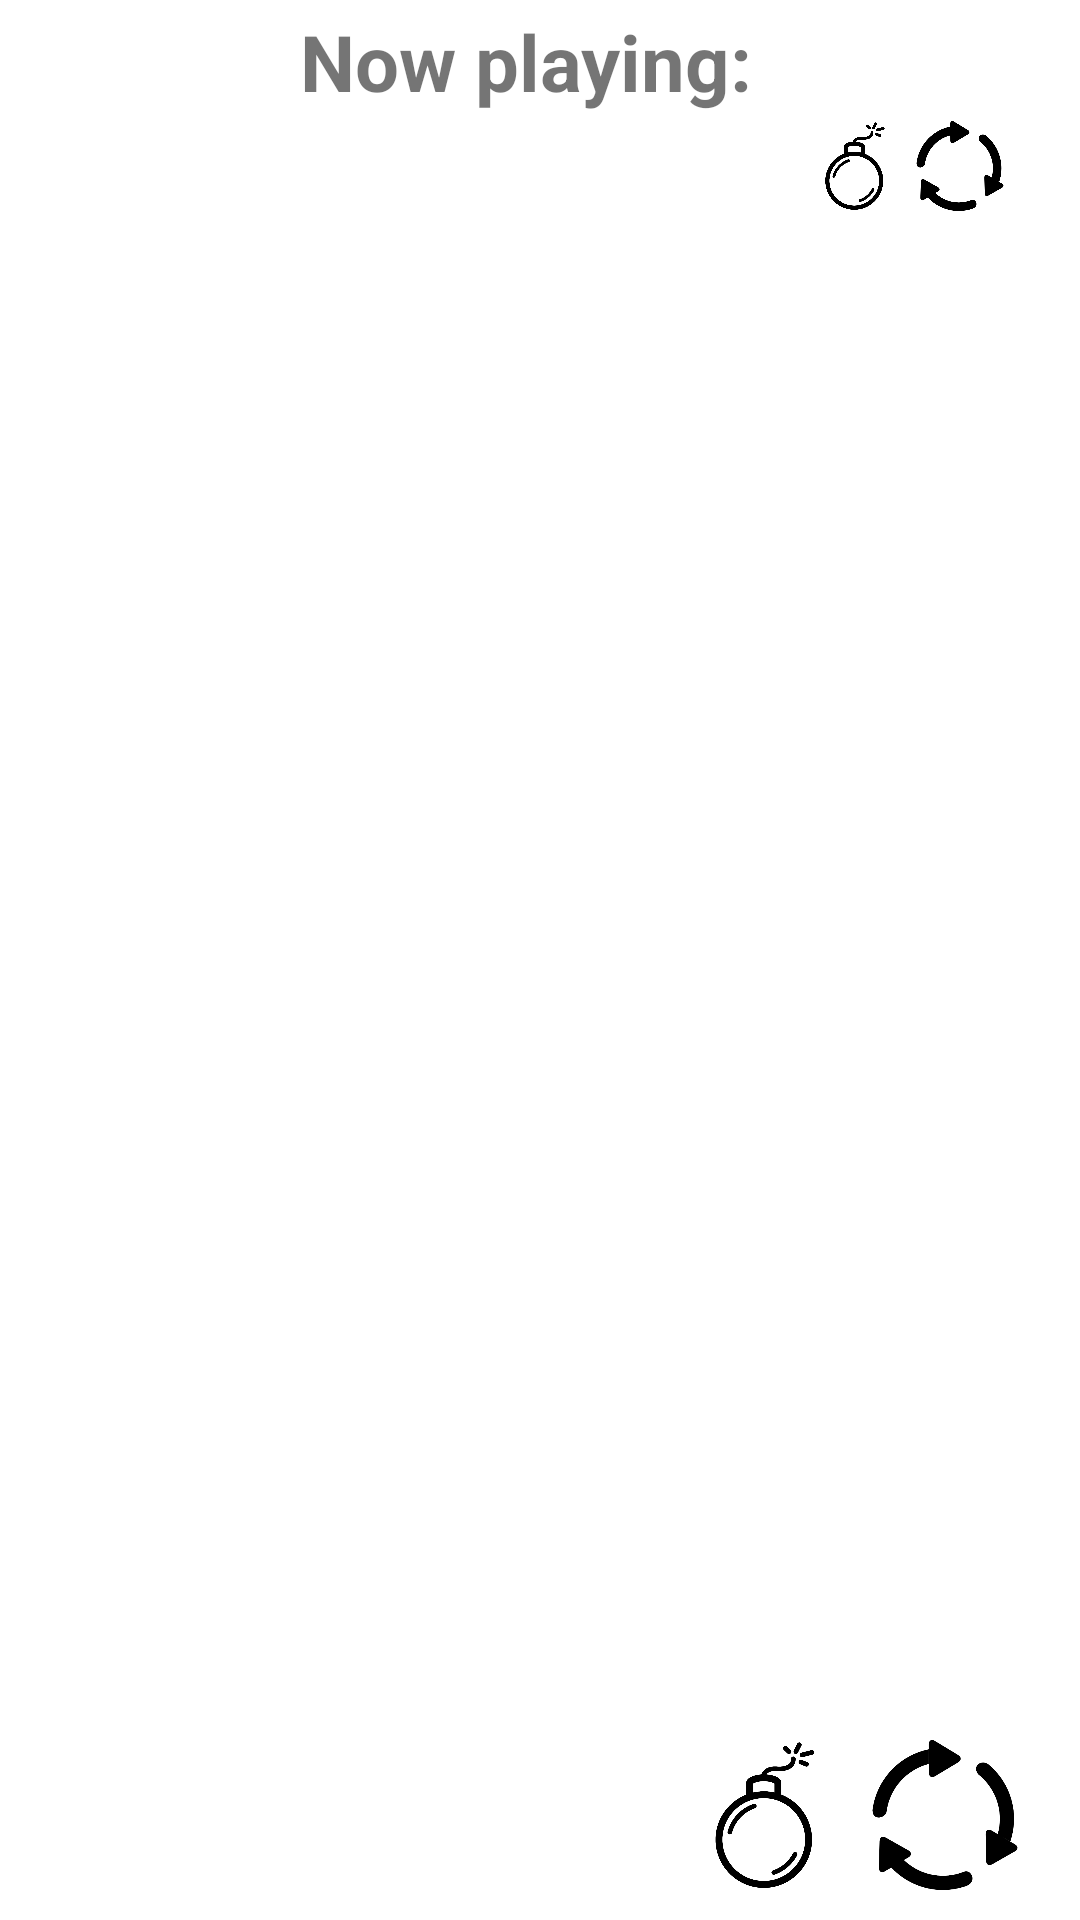

Point at icon controls on the screen. Image size 1080 × 1920, points as (x=x, y=y).
bomb: (x=855, y=166), (x=764, y=1815)
trade: (x=960, y=166), (x=945, y=1815)
